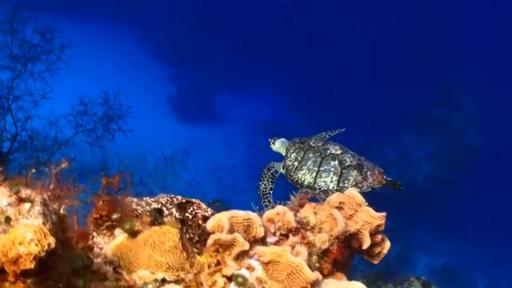Fish: (260, 129, 402, 209)
